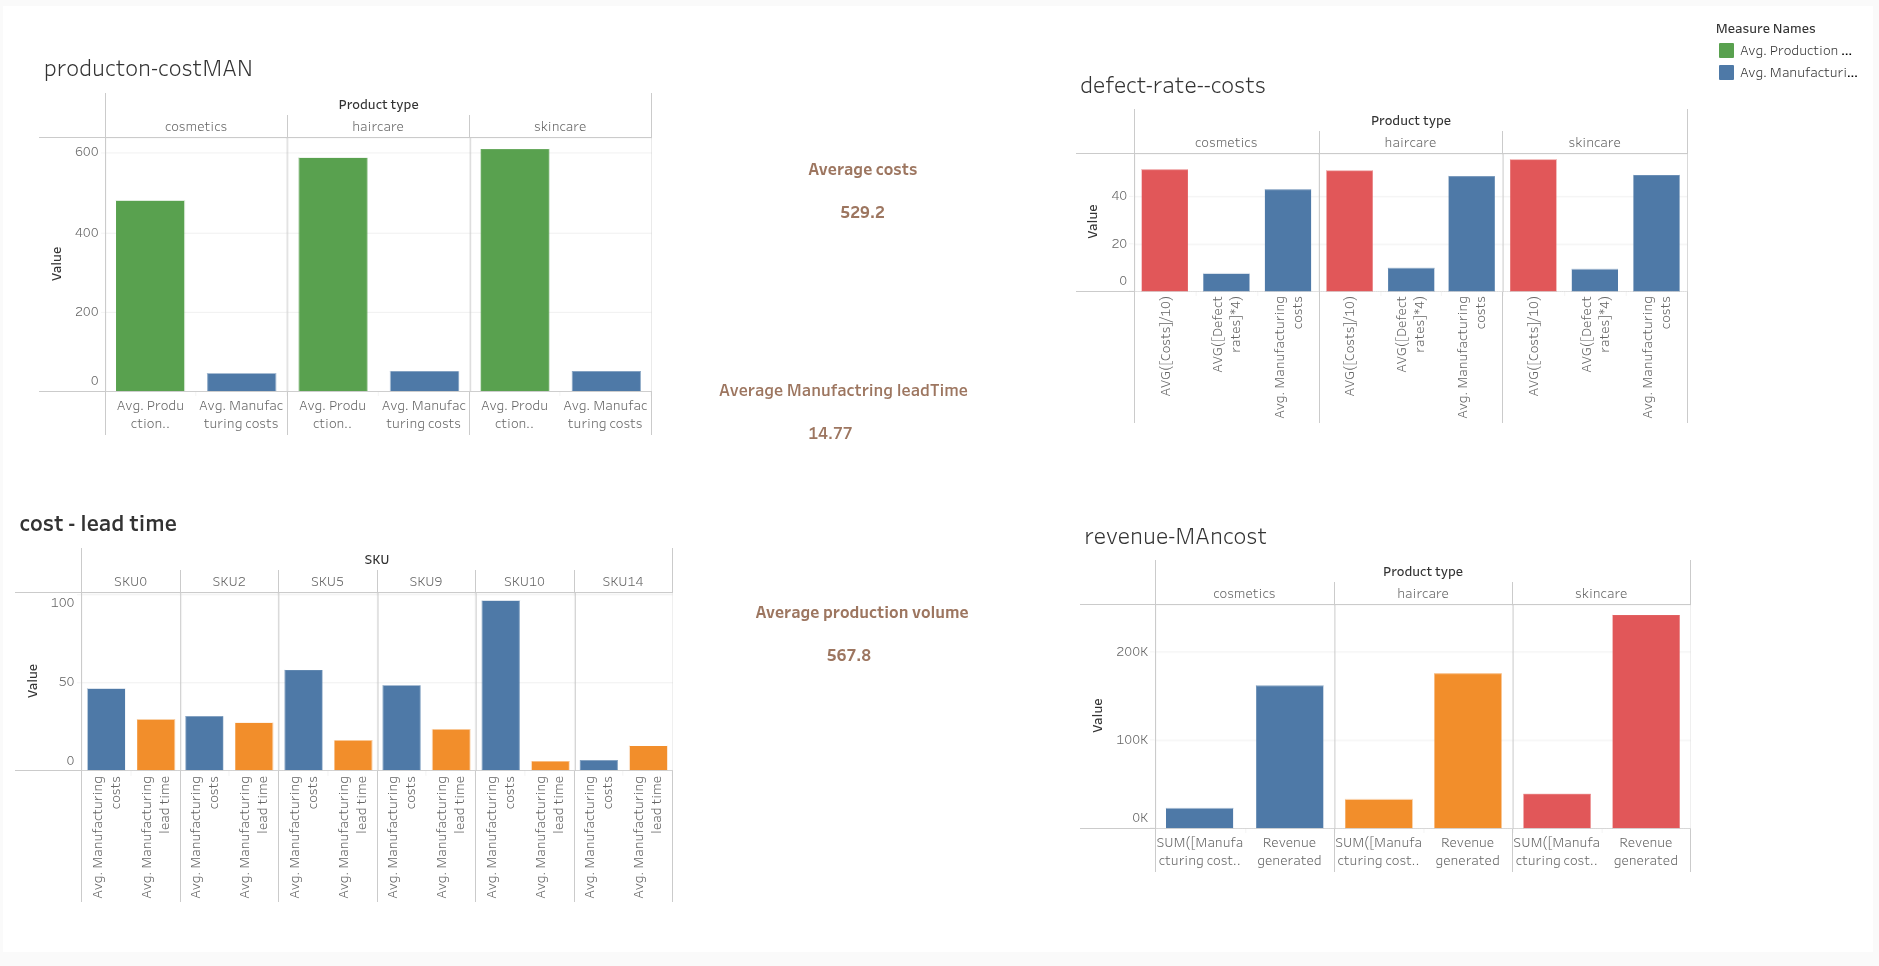

The dashboard page shown, as its layout file describes it:
{"tool":"tableau","page":{"name":"Manufactring","canvas":[1000,1000],"units":"permille","ordinal":0},"visuals":[{"type":"legend","title":"producton-costMAN","param":"[federated.0bq7jsy11mja5d1g9rk2h06egp4w].[:Measure Names]","box":[913.5,10.2,81.8,92.2]},{"type":"worksheet","title":"producton-costMAN","mark":"Automatic","cols":["Product type"],"box":[19.4,42.2,327.7,412.3]},{"type":"worksheet","title":"defect-rate--costs","mark":"Automatic","cols":["Product type"],"box":[573.5,58.9,327.7,382.8]},{"type":"text","box":[430.6,137,74.7,115.2]},{"type":"text","box":[382.9,367.5,164.1,142.1]},{"type":"worksheet","title":"cost-leadMAN","mark":"Automatic","cols":["SKU"],"box":[6.5,523.7,351.8,425.1]},{"type":"worksheet","title":"revenue-MAncost","mark":"Automatic","cols":["Product type"],"box":[575.9,536.5,327.7,380.3]},{"type":"text","box":[402.4,617.2,141.2,90.9]}]}

Visuals, with their boxes on the dashboard's canvas, which has no fixed pixel size, in thousandths of its width and height (x1, y1, x2, y2). These are canvas units, not pixel positions in the 1879x966 screenshot, which may show the page scaled, cropped or inside an application window:
"producton-costMAN" legend: {"left": 914, "top": 10, "right": 995, "bottom": 102}
"producton-costMAN" worksheet: {"left": 19, "top": 42, "right": 347, "bottom": 454}
"defect-rate--costs" worksheet: {"left": 574, "top": 59, "right": 901, "bottom": 442}
text: {"left": 431, "top": 137, "right": 505, "bottom": 252}
text: {"left": 383, "top": 368, "right": 547, "bottom": 510}
"cost-leadMAN" worksheet: {"left": 6, "top": 524, "right": 358, "bottom": 949}
"revenue-MAncost" worksheet: {"left": 576, "top": 536, "right": 904, "bottom": 917}
text: {"left": 402, "top": 617, "right": 544, "bottom": 708}
